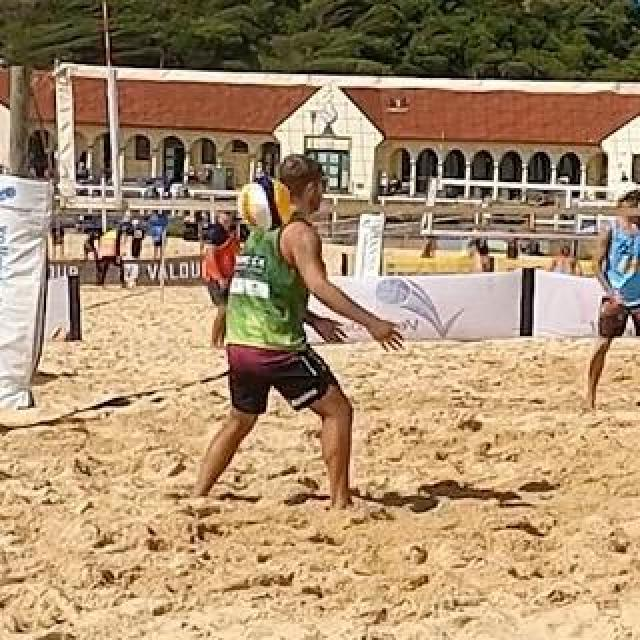volleyball: (237, 179, 291, 233)
